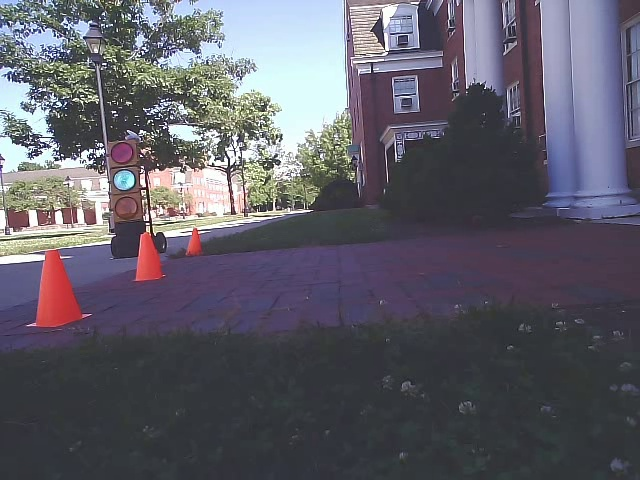green: (107, 141, 145, 221)
